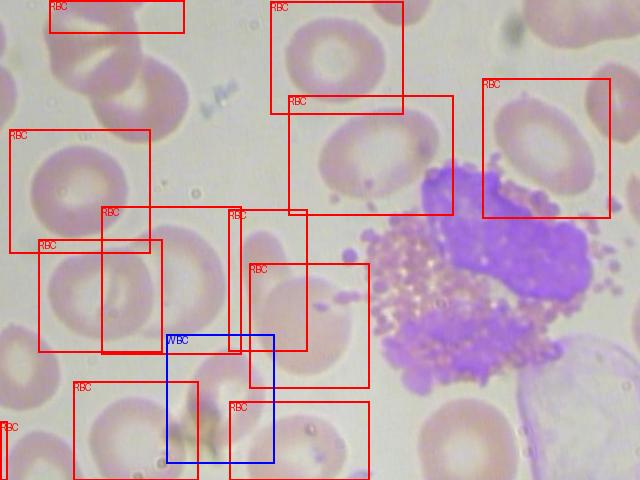RBC: (101, 206, 241, 354), (288, 95, 453, 215), (482, 78, 610, 218), (9, 129, 150, 253), (270, 1, 403, 114), (249, 263, 369, 388), (38, 239, 162, 352), (73, 381, 198, 480), (228, 209, 307, 351), (229, 401, 369, 480), (49, 0, 184, 33), (0, 421, 7, 480)
WBC: (166, 334, 274, 463)
